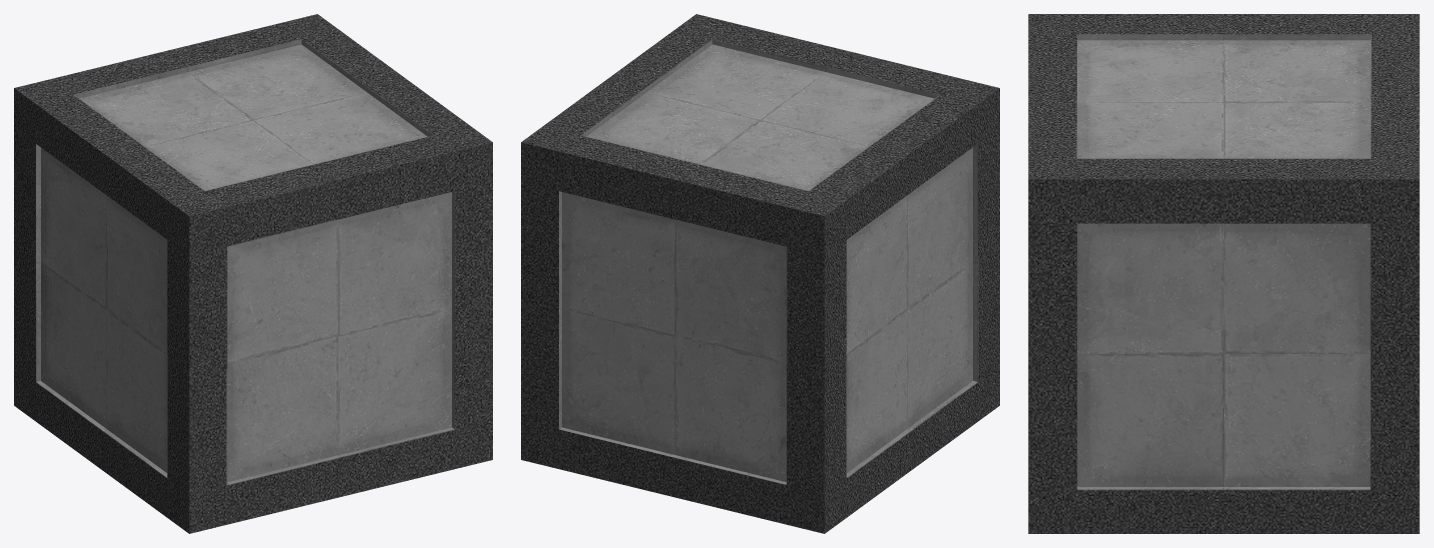
The model's file is the_sci-fi_cube2.glb.
3 views of the same model, side by side, from view 1: azimuth 30°, elevation 25°; view 2: azimuth 150°, elevation 25°; view 3: azimuth 270°, elevation 25° (orthographic). The views are drawn at different scales.
Parts seen in each view (by area): view 1: Metal Shell; view 2: Metal Shell; view 3: Metal Shell.
Boxes of the visible parts, bbox=[...] form: Metal Shell: bbox=[14, 14, 492, 533]; Metal Shell: bbox=[521, 14, 999, 533]; Metal Shell: bbox=[1028, 14, 1419, 533].
Size of the model in its own units: 0.9759 by 0.9759 by 0.9759.
Materials: 2 (1 with a texture image).
